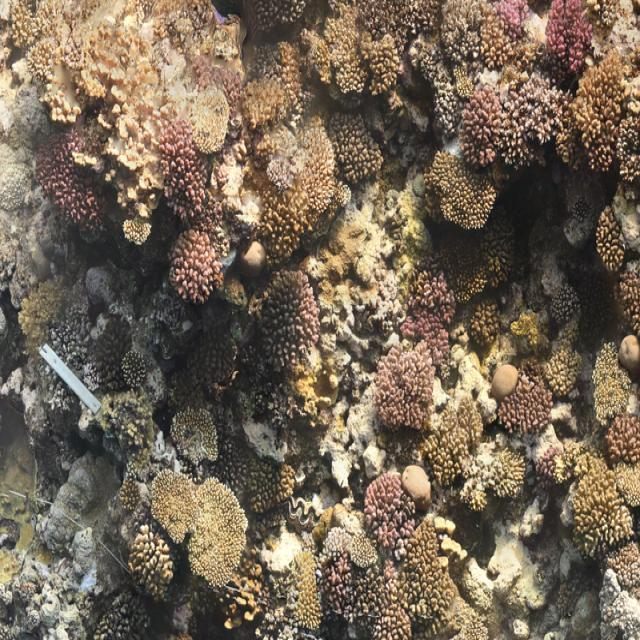Healthy Coral: (223, 292, 640, 640), (18, 8, 439, 275), (128, 451, 250, 604), (501, 76, 567, 165)
